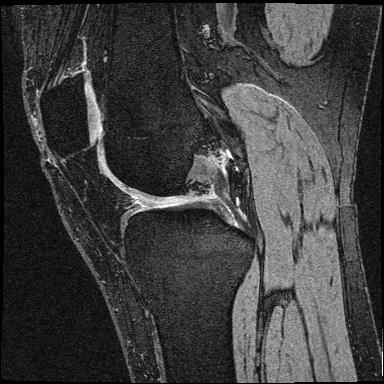SagKneeJointArea: (39, 72, 257, 268)
